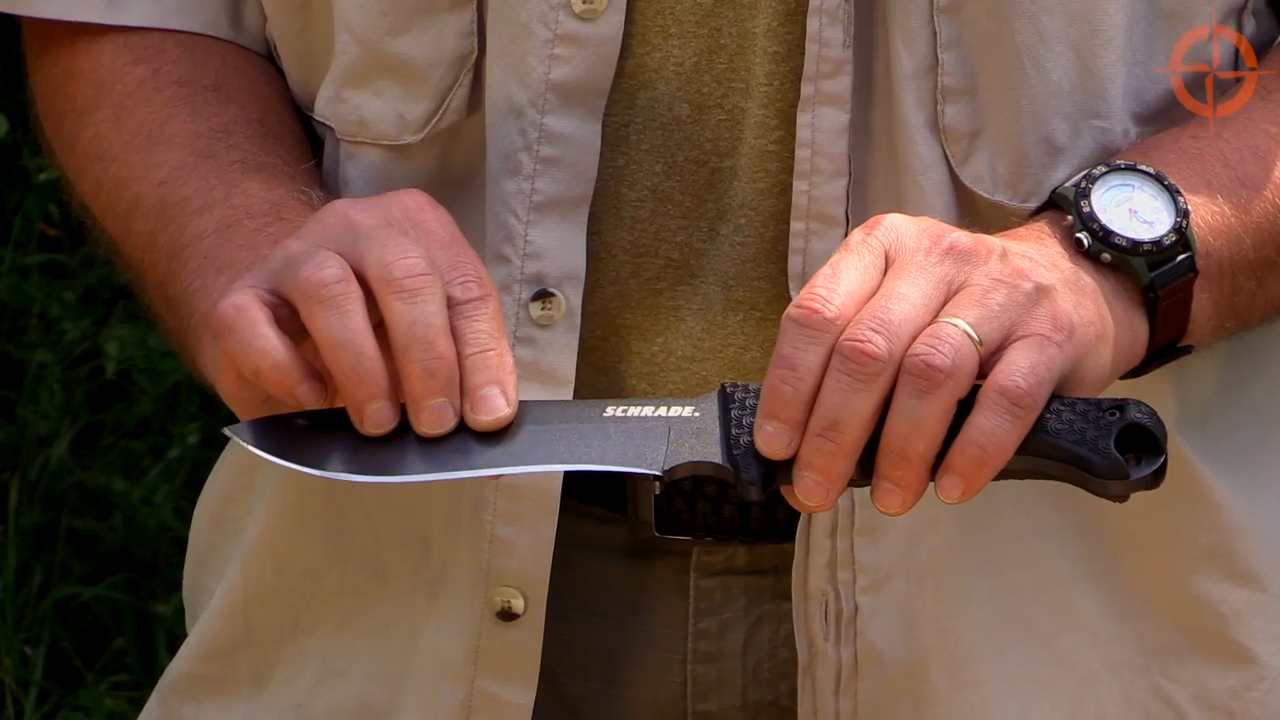knife: (195, 336, 1183, 521)
